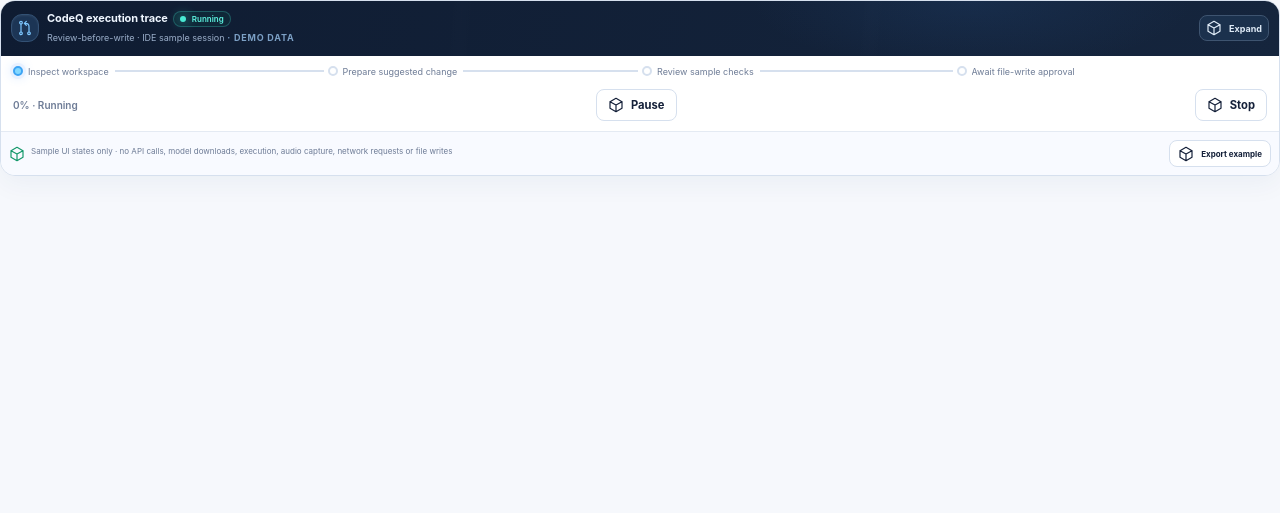
Scenario: ExecutionTrace contextual and mode boundaries › codeq stays compact after an explicit start until expanded deliberately
Expected: the element with class "trace-collapsed" is shown, [1,56,1279,131]
Click the button "Expand". click: (1234,28)
box: [1199,15,1269,41]
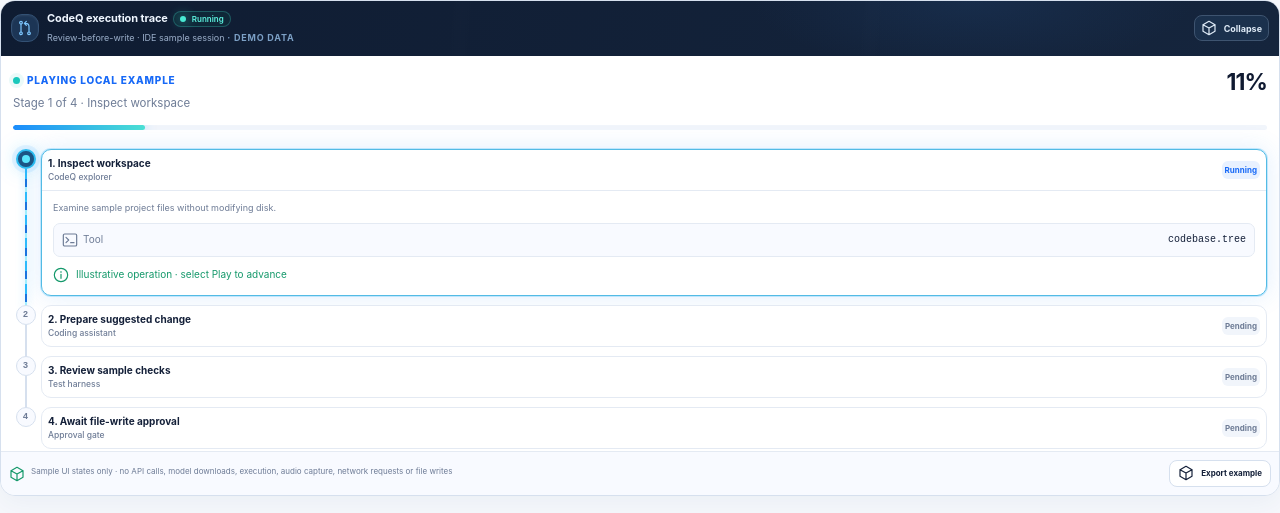
Expected: the progress indicator named "Simulated activity progress" is shown, [13,125,1267,130]
